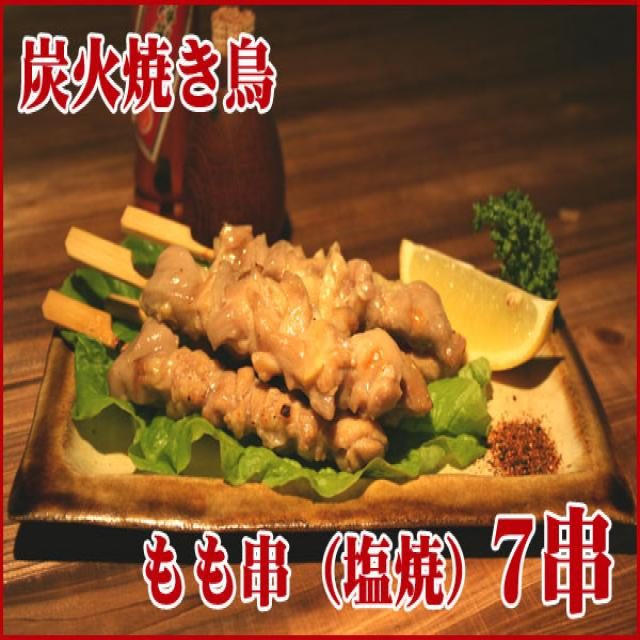烧串烤肉: (29, 171, 470, 480)
